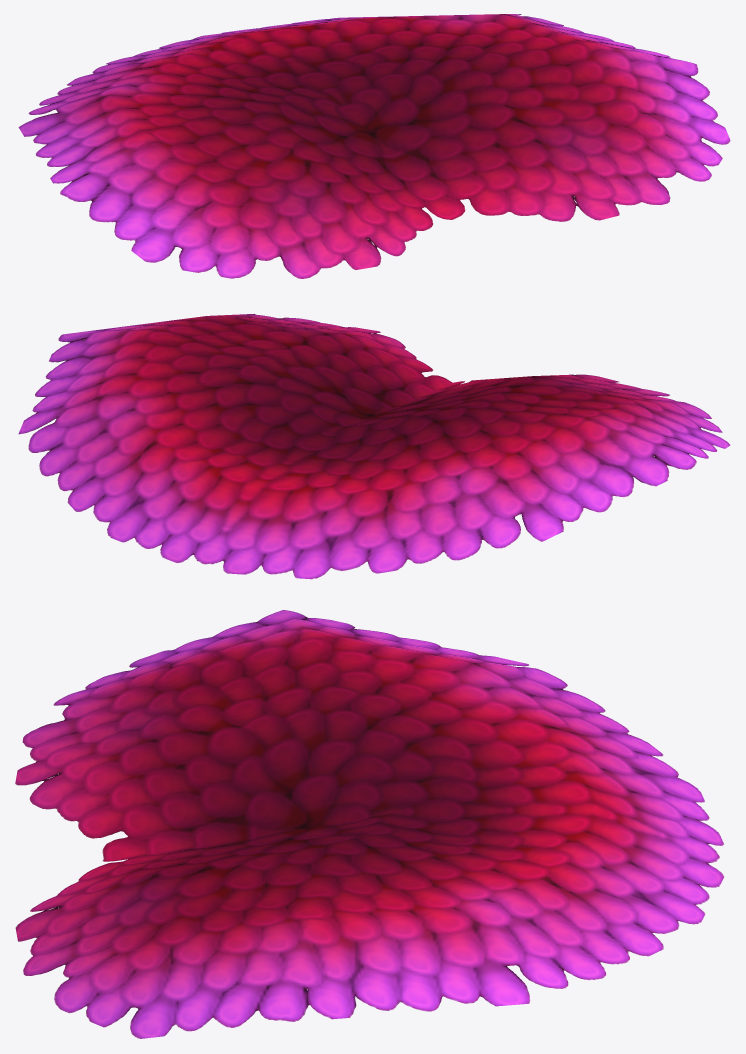
File: Coral_19.FBX
3 views of the same model, one above another, from view 1: azimuth 30°, elevation 25°; view 2: azimuth 150°, elevation 25°; view 3: azimuth 270°, elevation 25° (orthographic). The views are drawn at different scales.
Visible parts, largest first — view 1: Coral_19; view 2: Coral_19; view 3: Coral_19.
Boxes of the visible parts, left/top/right/bottom form: Coral_19: left=18, top=14, right=730, bottom=278; Coral_19: left=18, top=314, right=730, bottom=579; Coral_19: left=15, top=610, right=724, bottom=1038.
Size of the model in its own units: 34.32 by 4.16 by 27.1.
